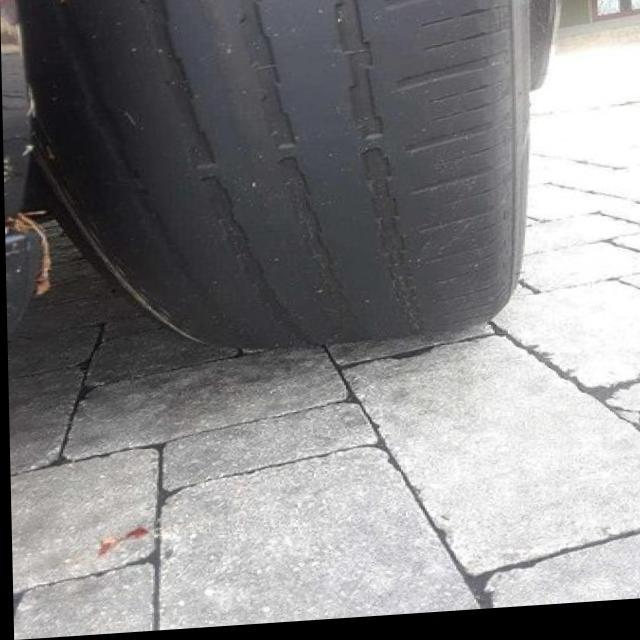Flat spots: (112, 0, 524, 319)
